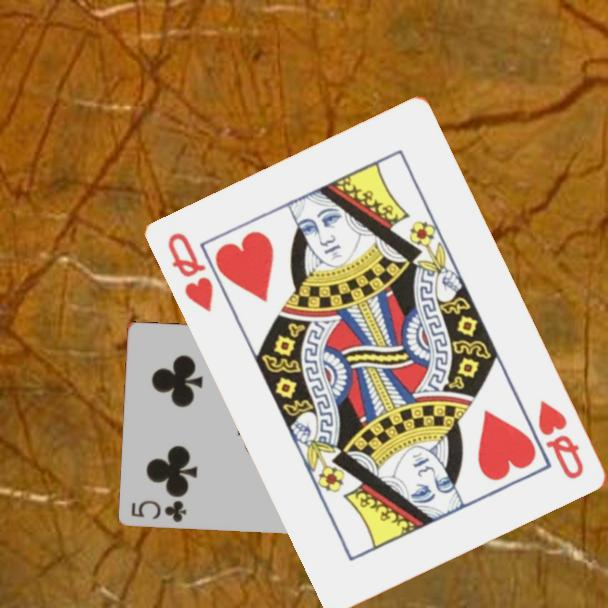c05: (128, 496, 190, 525)
h12: (164, 229, 217, 315), (535, 396, 587, 482)
